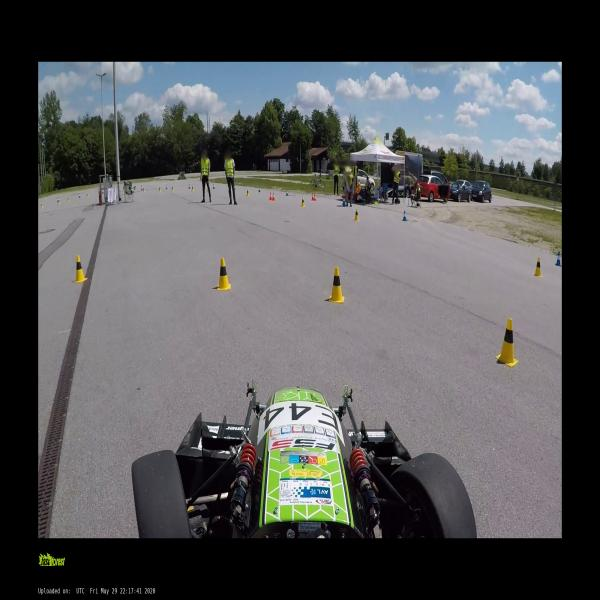blue_cone: (554, 251, 562, 266), (402, 210, 406, 221), (257, 186, 261, 193), (77, 193, 81, 199), (164, 184, 168, 190), (140, 185, 144, 191), (342, 198, 345, 205), (285, 190, 288, 196), (188, 183, 190, 189)
orange_cone: (271, 192, 276, 202), (269, 193, 275, 200), (311, 193, 316, 201), (268, 193, 273, 200), (313, 193, 316, 201)
yellow_cone: (494, 320, 518, 366), (327, 267, 346, 305), (215, 257, 231, 292), (72, 255, 87, 286), (532, 257, 543, 279), (353, 209, 359, 222), (300, 197, 304, 207), (39, 202, 43, 210), (188, 185, 193, 191), (56, 198, 60, 205), (170, 186, 174, 193), (86, 192, 89, 200), (246, 189, 249, 196), (66, 197, 70, 202), (158, 187, 162, 192), (191, 186, 194, 192), (142, 187, 145, 192)
